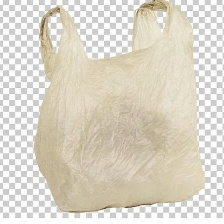plastic_bag: (28, 0, 207, 213)
